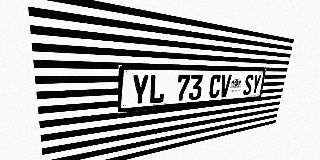3: (188, 74, 203, 101)
7: (175, 75, 191, 102)
C: (208, 74, 222, 99)
L: (148, 75, 166, 104)
S: (242, 74, 254, 96)
V: (219, 74, 232, 98)
Y: (131, 75, 149, 106), (251, 74, 262, 95)
